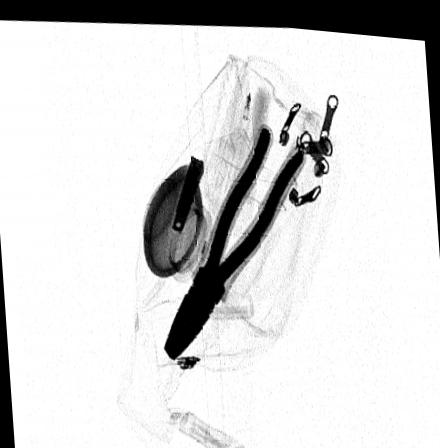Pliers: (163, 120, 307, 358)
